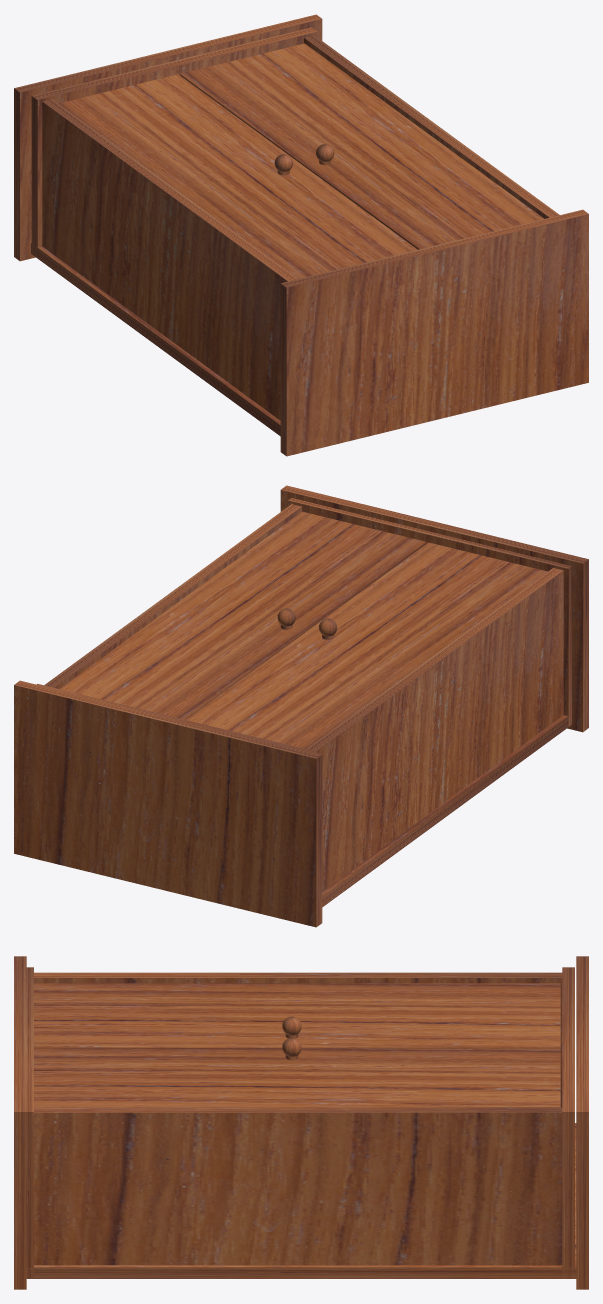
The model's file is closet.fbx.
3 renders of one model, top to bottom at view 1: azimuth 30°, elevation 25°; view 2: azimuth 150°, elevation 25°; view 3: azimuth 270°, elevation 25°, orthographic. The views are drawn at different scales.
Parts seen in each view (by area): view 1: Cube.002, Cube.008, Cube.007; view 2: Cube.002, Cube.008, Cube.007; view 3: Cube.002, Cube.007, Cube.008.
Part boxes in pixels (left/top/right/bottom): Cube.002: left=14, top=14, right=588, bottom=456; Cube.008: left=180, top=43, right=543, bottom=249; Cube.007: left=59, top=74, right=417, bottom=278; Cube.002: left=14, top=485, right=588, bottom=927; Cube.008: left=60, top=511, right=426, bottom=719; Cube.007: left=186, top=542, right=547, bottom=748; Cube.002: left=14, top=956, right=588, bottom=1289; Cube.007: left=34, top=983, right=560, bottom=1048; Cube.008: left=34, top=1037, right=560, bottom=1107.
Bounding box in the file's own units: 220 × 121 × 343.
